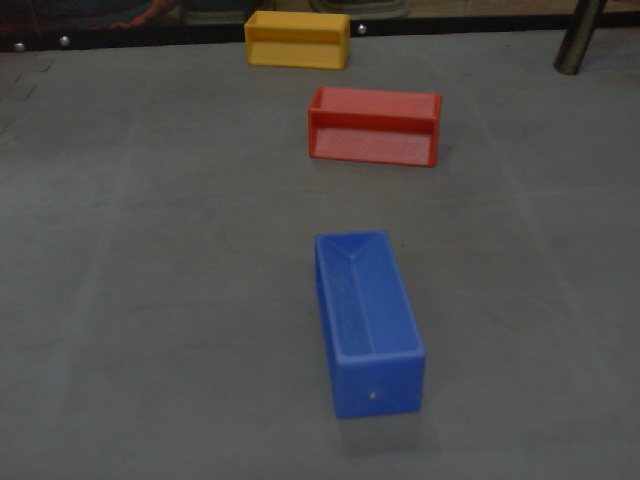BlueSample: (311, 227, 426, 418)
RedSample: (307, 84, 443, 170)
